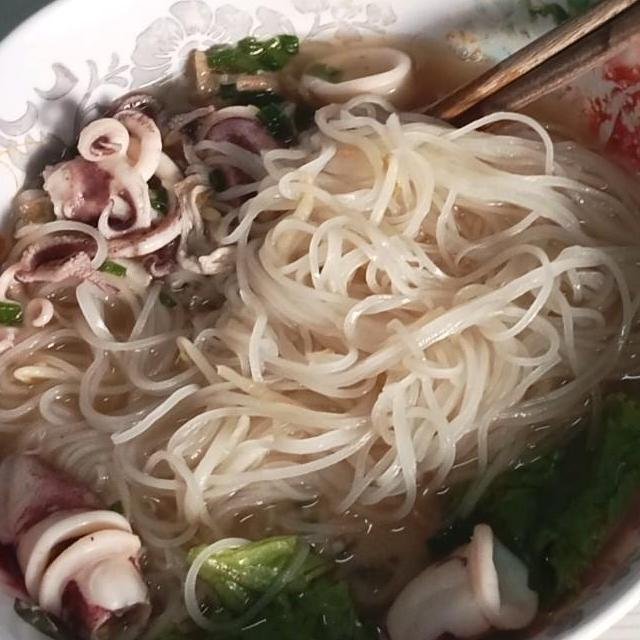banh hu tieu: (205, 92, 640, 543), (0, 273, 252, 553)
hu tieu: (0, 0, 640, 640)
muc: (37, 87, 234, 284), (0, 449, 156, 640), (369, 519, 543, 640), (0, 229, 123, 361), (186, 100, 302, 229), (292, 41, 421, 117)
